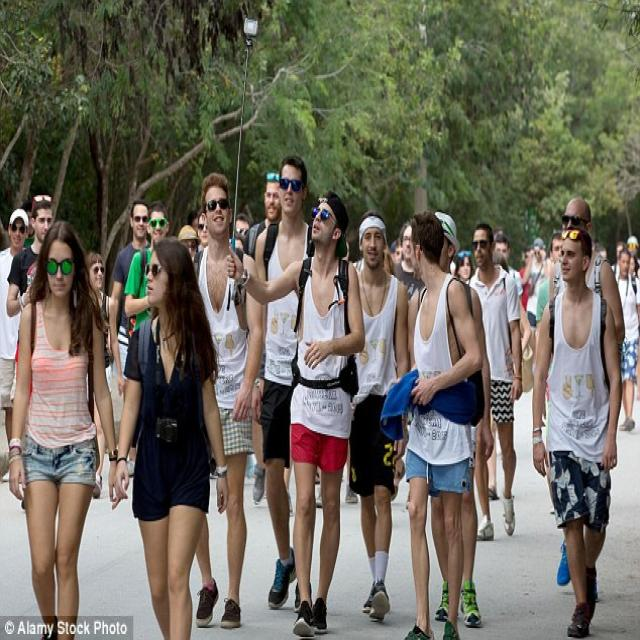body: (220, 186, 368, 638), (5, 214, 124, 638), (110, 232, 232, 638), (527, 222, 626, 638), (402, 206, 497, 632), (189, 172, 266, 632), (402, 209, 484, 640), (331, 207, 413, 625), (250, 150, 318, 616), (548, 197, 626, 587), (464, 221, 525, 544), (531, 227, 591, 524), (83, 248, 128, 502), (5, 194, 55, 407), (105, 197, 151, 406), (0, 207, 31, 485), (589, 231, 639, 401), (122, 198, 173, 336), (174, 203, 264, 276), (486, 248, 509, 502), (614, 246, 640, 433), (246, 168, 283, 262), (492, 228, 525, 326), (393, 220, 427, 300), (340, 236, 404, 275), (525, 236, 547, 329), (203, 448, 258, 483), (517, 246, 535, 312), (519, 245, 532, 314), (452, 248, 474, 287)
